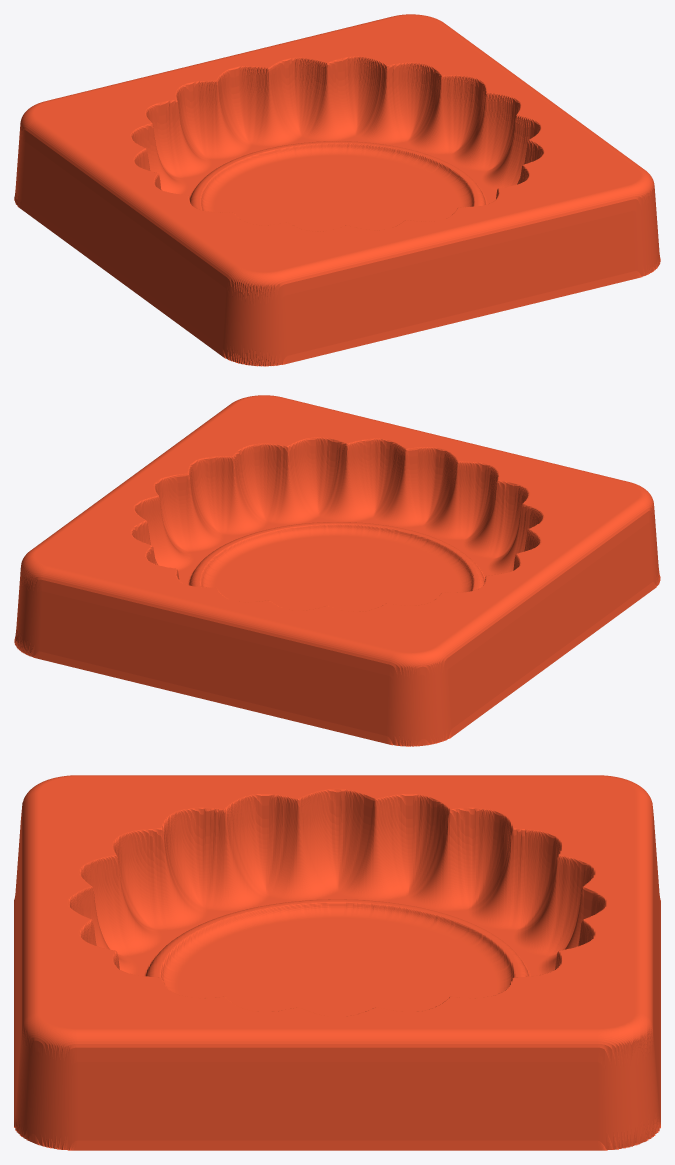
Rendered from mold.glb.
3 renders of one model, top to bottom at view 1: azimuth 30°, elevation 25°; view 2: azimuth 150°, elevation 25°; view 3: azimuth 270°, elevation 25°, orthographic. The views are drawn at different scales.
Parts seen in each view (by area): view 1: geometry_0; view 2: geometry_0; view 3: geometry_0.
Part boxes in pixels (x1,y1,x2,y2): geometry_0: (14, 14, 660, 366); geometry_0: (14, 395, 660, 746); geometry_0: (14, 775, 660, 1150).
Bounding box in the file's own units: 0.0924 × 0.0175 × 0.0924.
